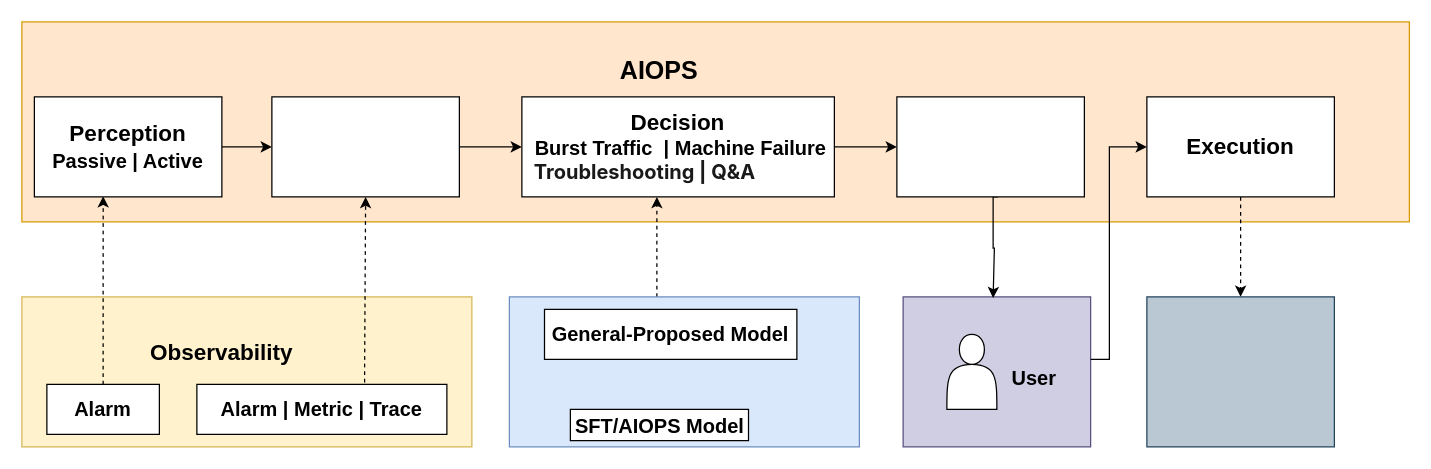
The diagram is 1431 pixels wide and 469 high, and some of its shapes have lost their labels. The box of each missing label's shape, as (x1, y1, x2, y2) in pixels:
GPT | Qwen | Deepseek: (508, 296, 859, 447)
Operations Tool: (1146, 296, 1334, 447)
Planning: (896, 96, 1084, 197)
Prediction: (271, 96, 459, 197)
